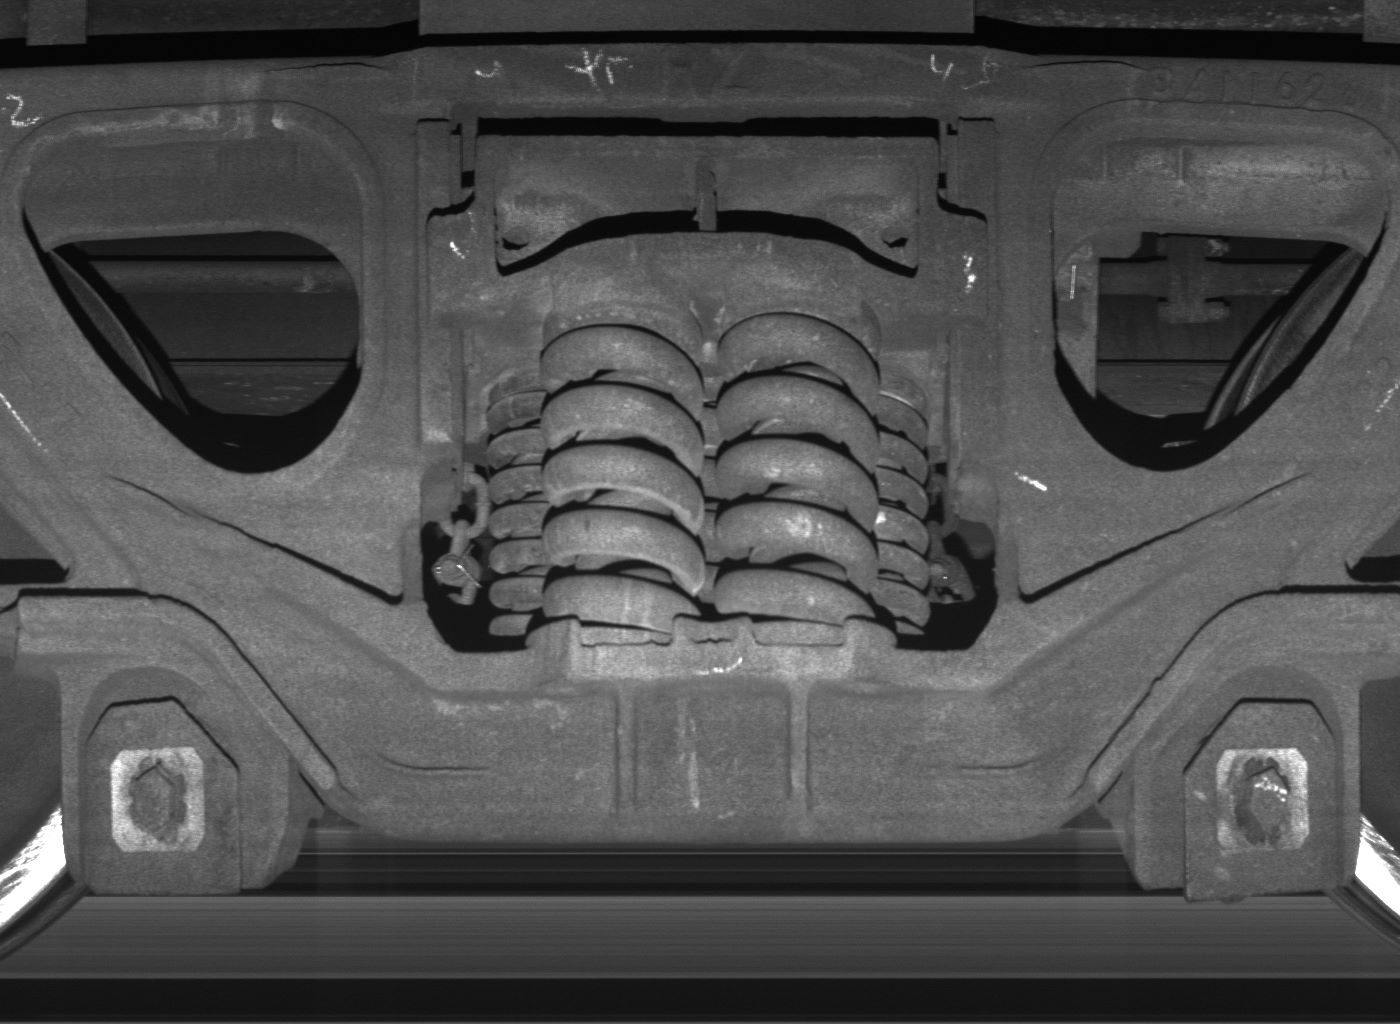Locking plate: (1135, 659, 1360, 903)
normal: (62, 653, 289, 892)
